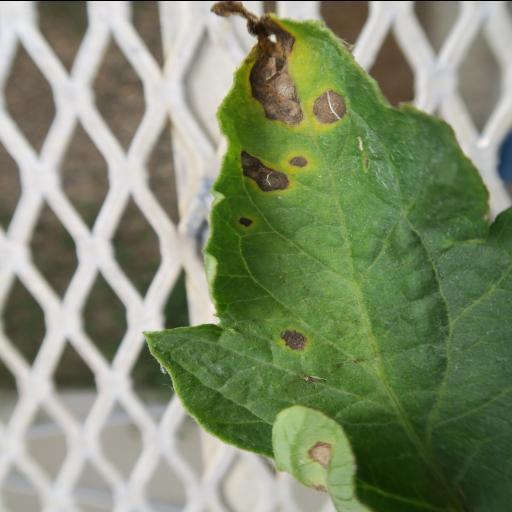disease_tomato: (142, 14, 512, 512)
